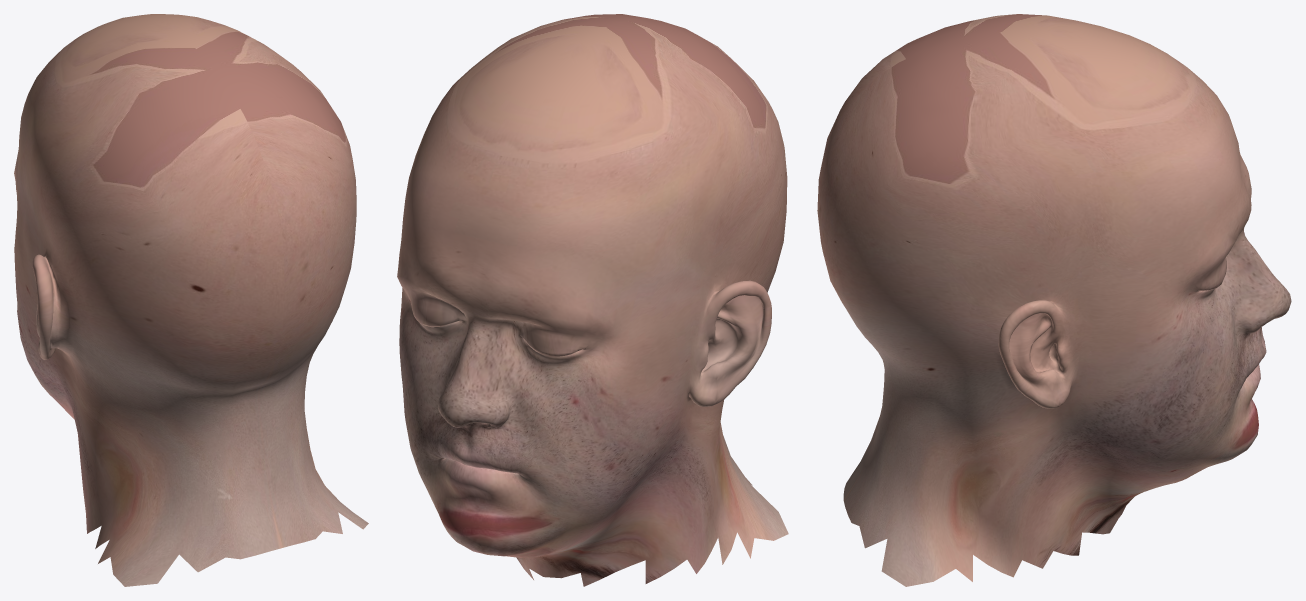
The model's file is FoundryFace.glb.
The picture shows the model from 3 angles, left to right: view 1: azimuth 30°, elevation 25°; view 2: azimuth 150°, elevation 25°; view 3: azimuth 270°, elevation 25°; orthographic projection. The views are drawn at different scales.
Visible parts, largest first — view 1: Face; view 2: Face; view 3: Face.
Boxes of the visible parts, x1=… form: Face: x1=14, y1=14, x2=368, y2=586; Face: x1=397, y1=14, x2=788, y2=586; Face: x1=817, y1=14, x2=1291, y2=586.
Size of the model in its own units: 0.3077 by 0.449 by 0.3891.
Materials: 1 (1 with a texture image).
